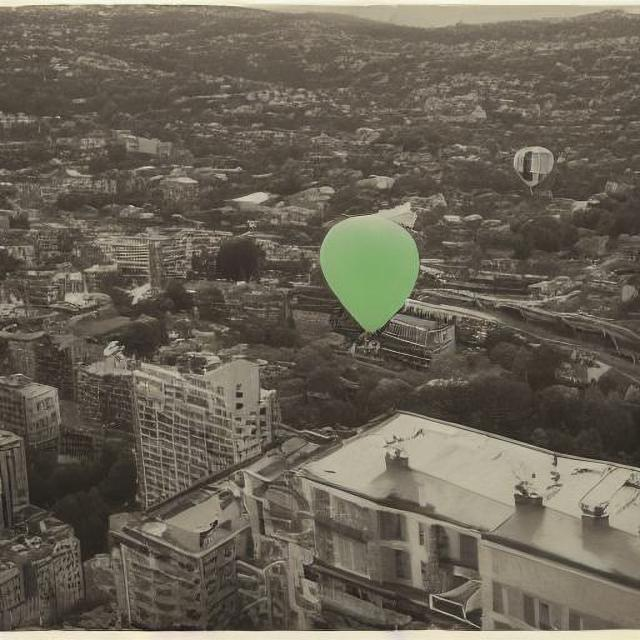balloon: (315, 212, 422, 340), (515, 141, 563, 191)
